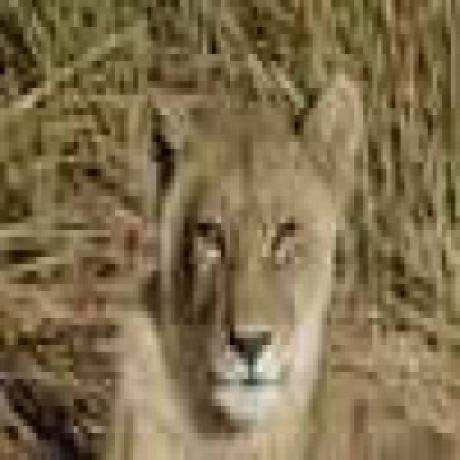Lion: (92, 73, 365, 460)
